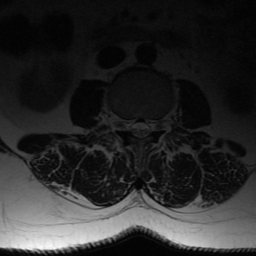CCS_normal: (137, 115, 145, 143)
LFS_normal: (153, 113, 161, 138)
LLS_normal: (145, 113, 152, 139)
RFS_normal: (118, 111, 129, 137)
RLS_normal: (129, 113, 137, 140)
